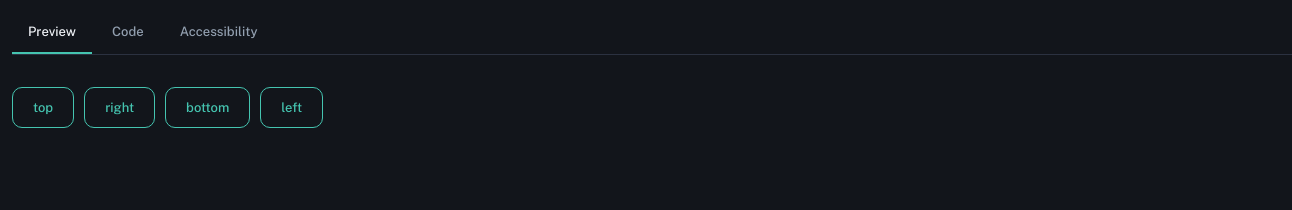
Test: TooltipDoc › switches to the Code tab and shows Tooltip snippets
Step 1. Click the tab "Code" → [128, 33], box top-left (96, 12), bottom-right (160, 54)
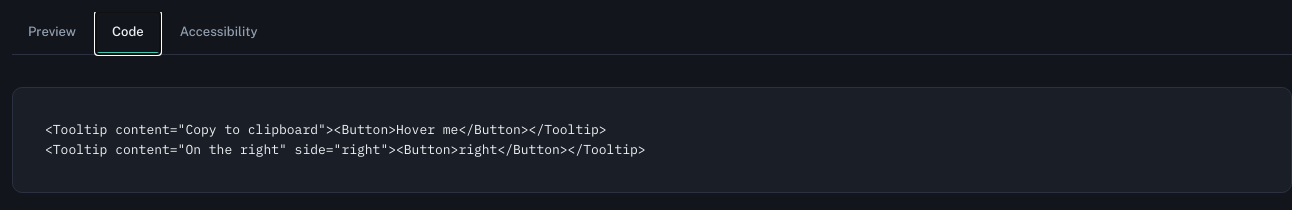
Expected: the text "side=\"right\"" is shown, top-left (45, 120), bottom-right (646, 158)
